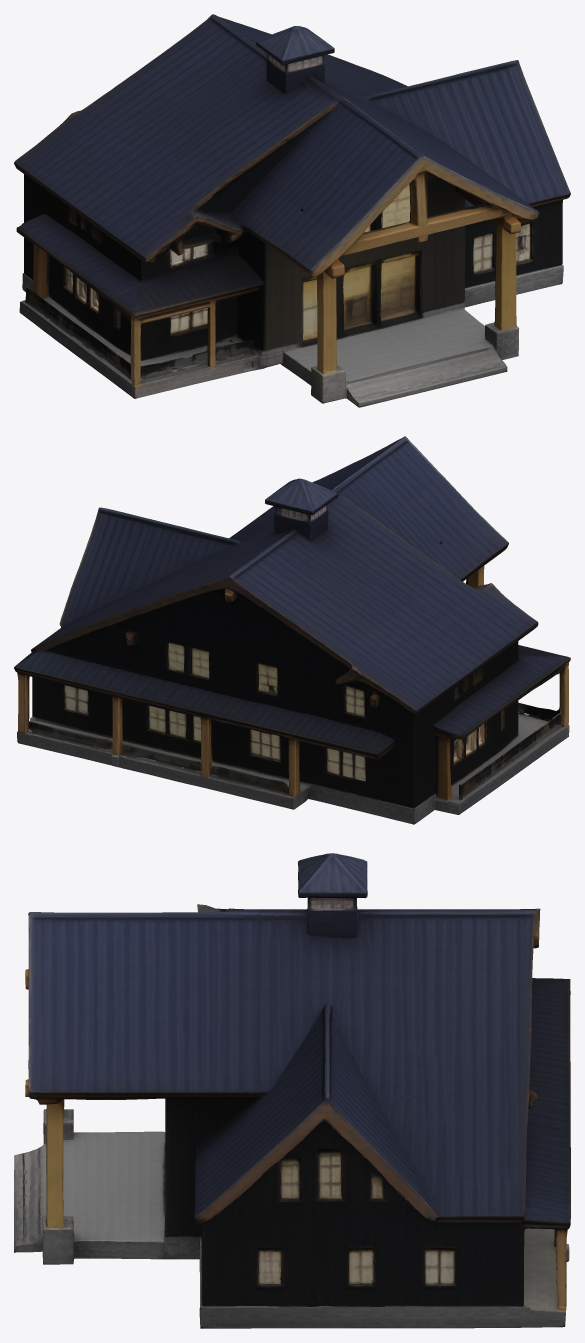
The picture shows the model from 3 angles, top to bottom: view 1: azimuth 30°, elevation 25°; view 2: azimuth 150°, elevation 25°; view 3: azimuth 270°, elevation 25°; orthographic projection. The views are drawn at different scales.
Visible parts, largest first — view 1: world; view 2: world; view 3: world.
Boxes of the visible parts, x1,y1,x2,y2 form: world: (14, 14, 570, 407); world: (14, 436, 570, 824); world: (14, 853, 570, 1328).
Size of the model in its own units: 0.9984 by 0.5838 by 0.8509.
Materials: 1 (1 with a texture image).
